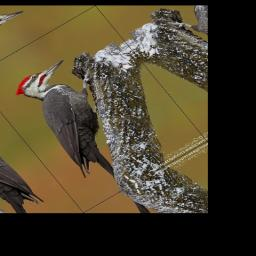Woodpecker: (9, 50, 160, 193)
